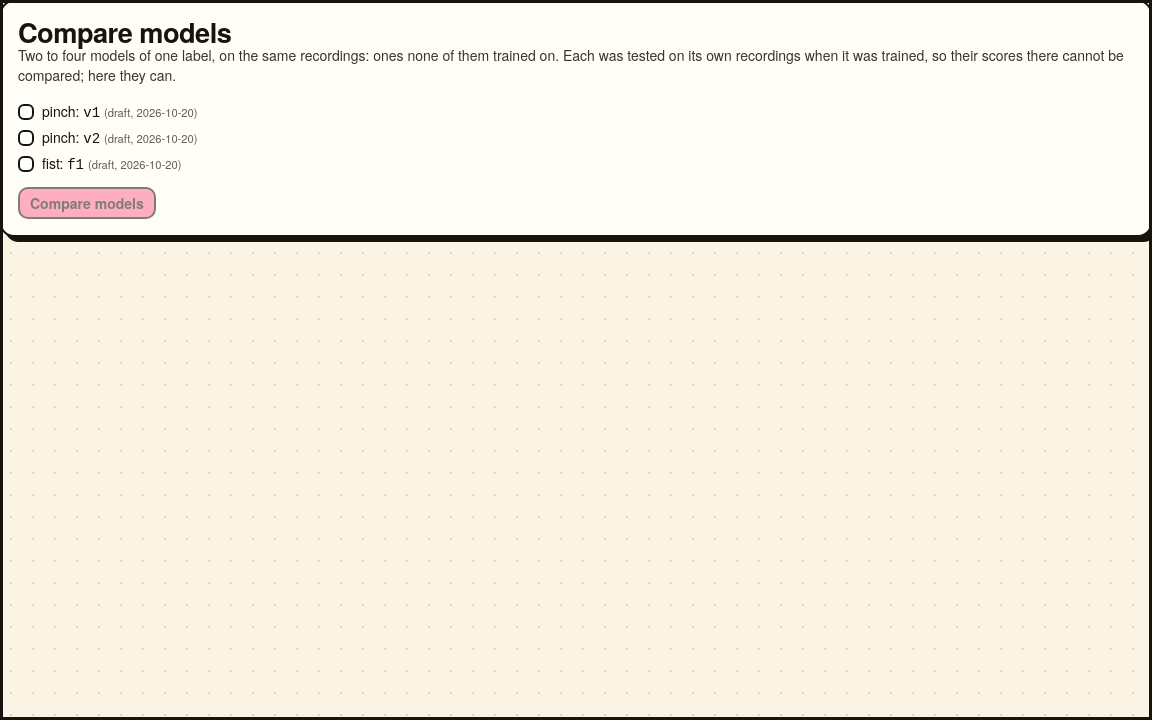
Test: comparing models › compares models of one label on the recordings none trained on
Click the checkbox named "Compare v1". click: {"x": 26, "y": 112}
box: [18,104,34,120]
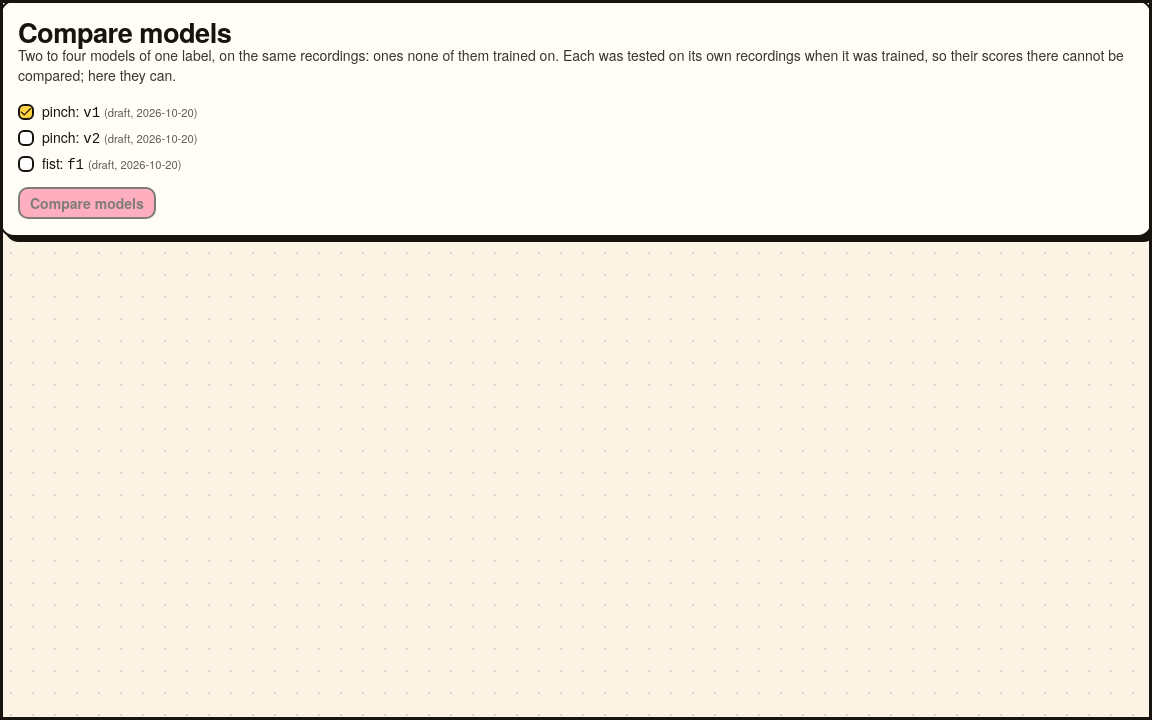
Click the checkbox named "Compare v2". click: {"x": 26, "y": 138}
box: [18,130,34,146]
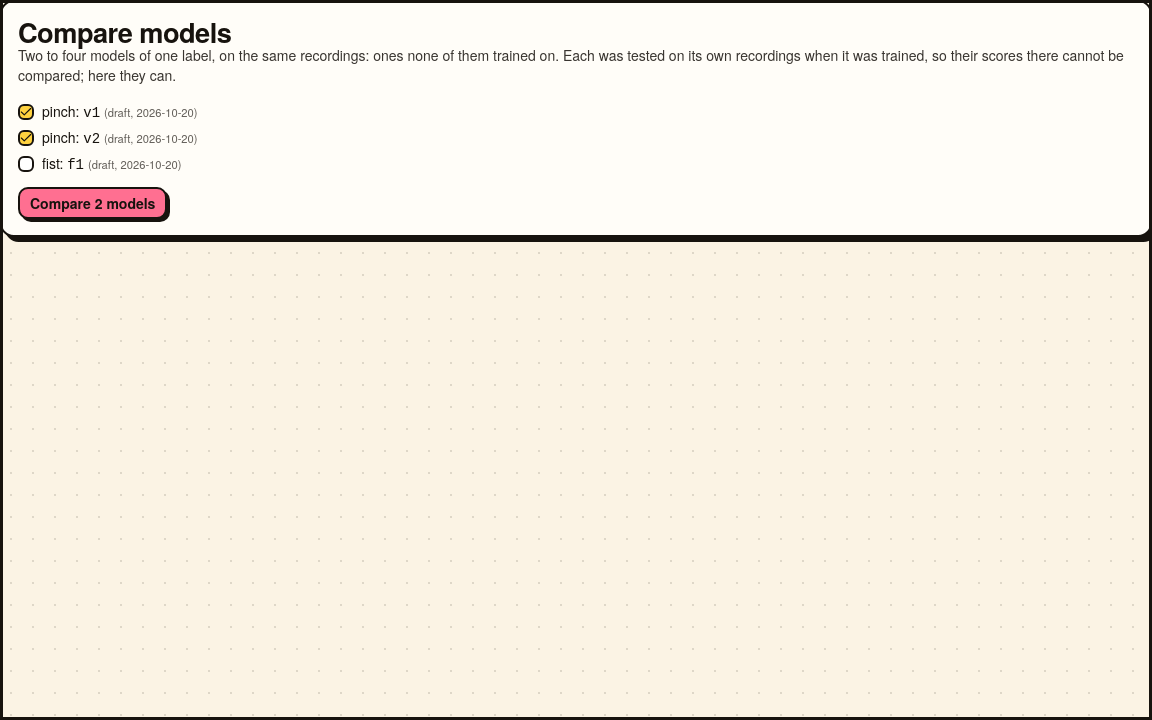
Click the button "Compare 2 models". click: {"x": 93, "y": 203}
box: [18,187,167,219]
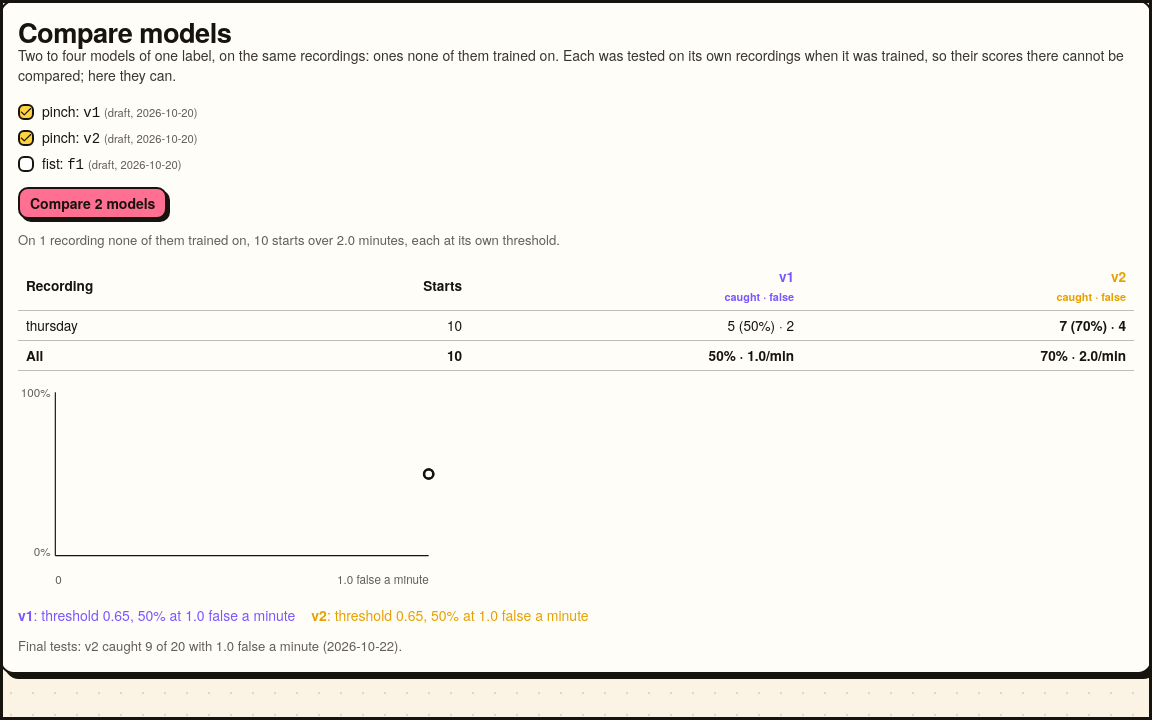
expect the row "thursday 10 5 (50%) · 2 7 (70%) · 4" is shown: met, box [18,311,1134,341]
expect the text "Final tests: v2 caught 9 of 20 with 1.0 false a minute" is shown: met, box [18,636,402,655]
